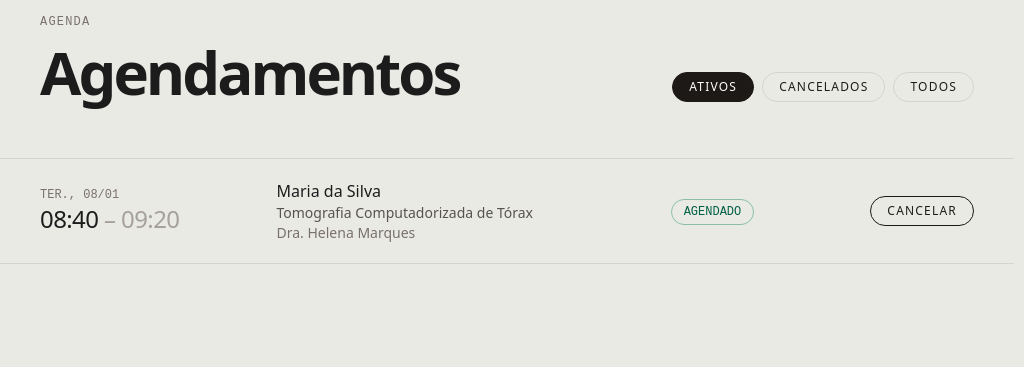
Scenario: ListaDeAgendamentos › mostra o erro da API quando o cancelamento é recusado
Step 1. Click the button "Cancelar" → (922, 211), box [870,196,974,226]
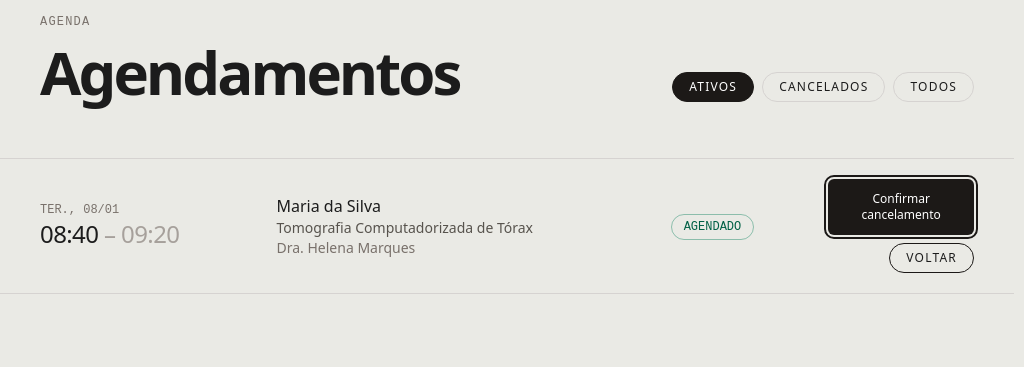
Step 2. Click the button "Confirmar cancelamento" → (901, 207), box [828,179,974,235]
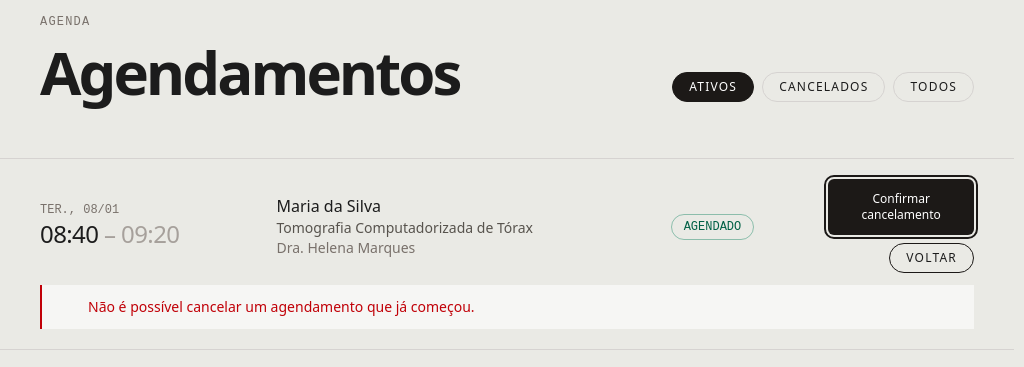
Result: the message reads "Não é possível cancelar um agendamento que já começou." at [88,297,475,316]
